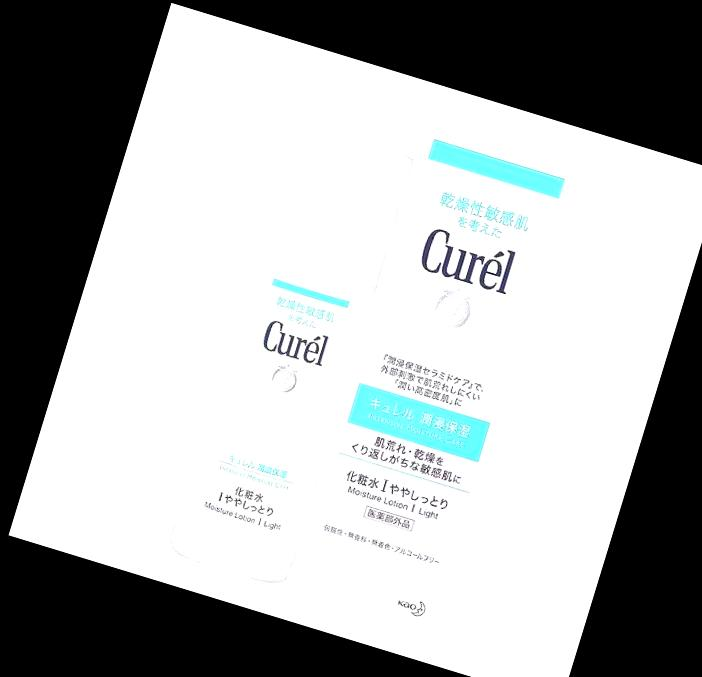cosmetic: (168, 121, 419, 578)
